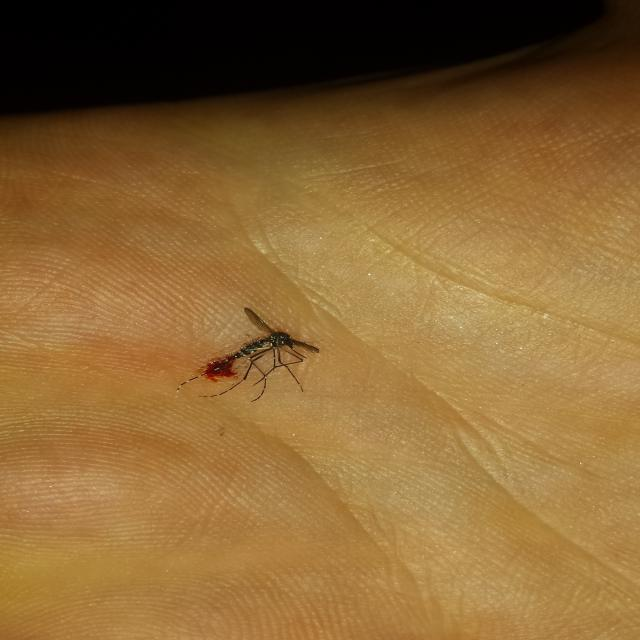albopictus: (178, 305, 323, 402)
